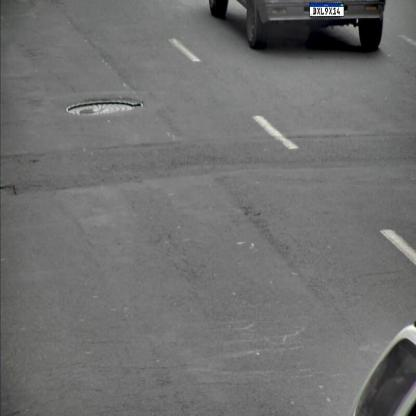PlacaM: (310, 2, 344, 16)
